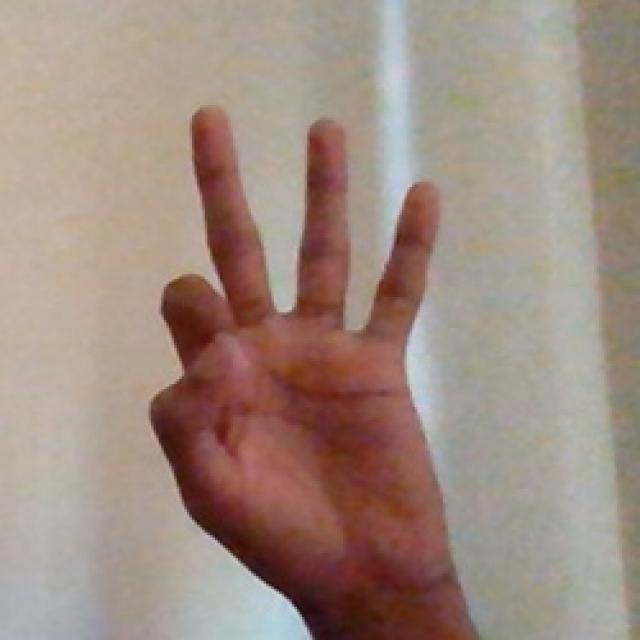Numeric-9: (144, 94, 452, 597)
